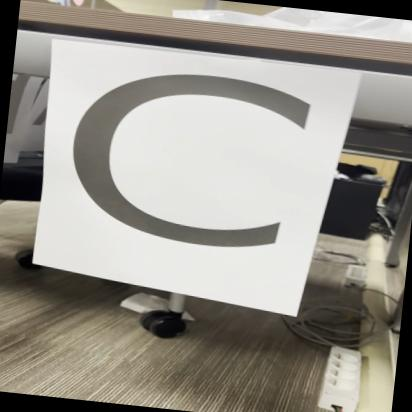seat: (44, 43, 326, 304)
